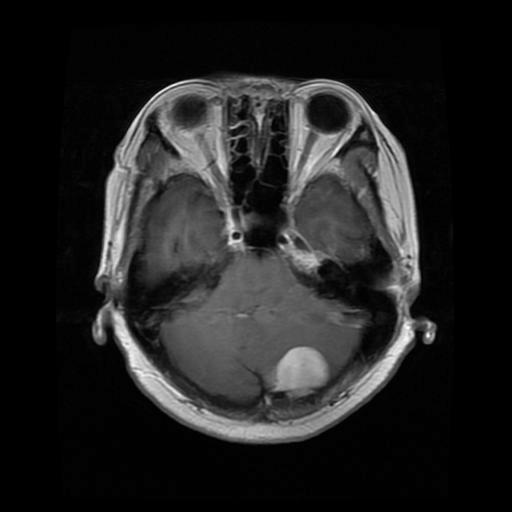Tumour-Pituitary: (257, 342, 343, 406)
